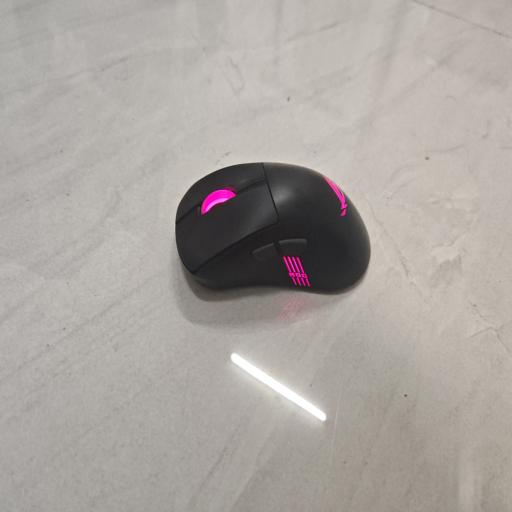mouse: (176, 162, 370, 294)
